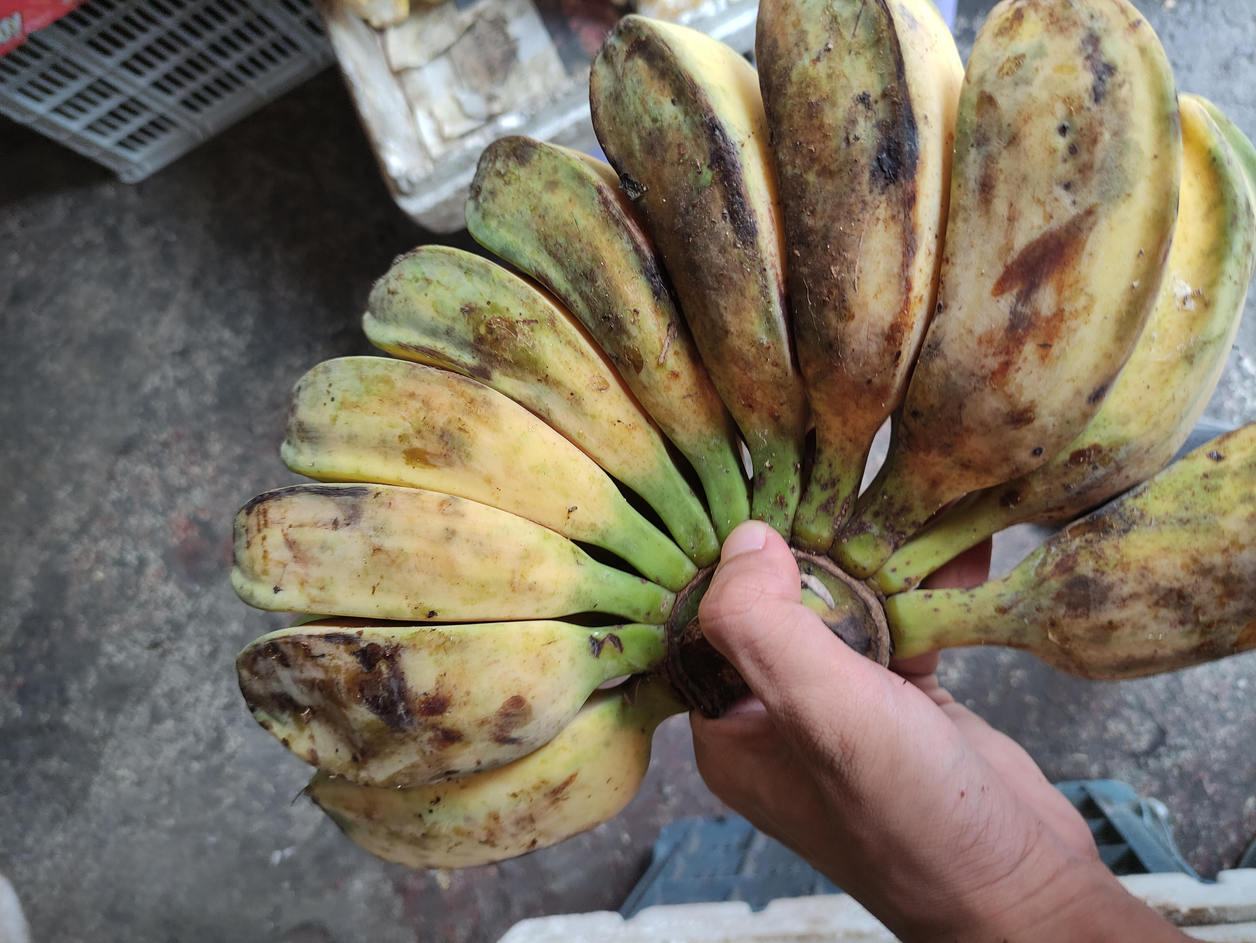underripe: (231, 0, 1256, 868)
